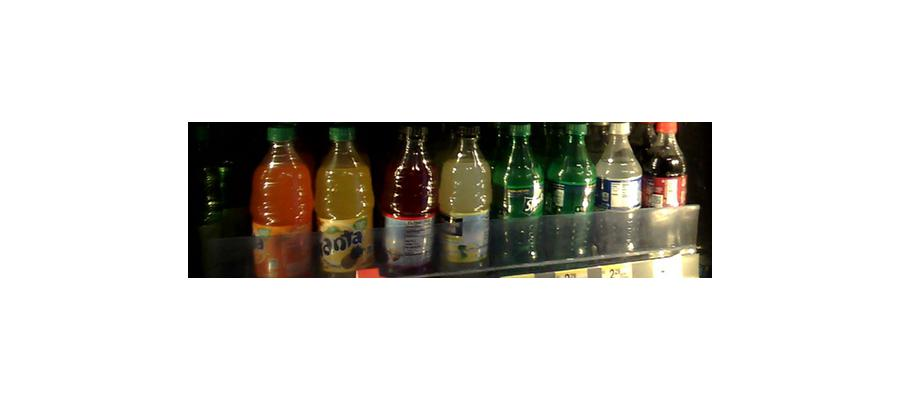bottle: (314, 124, 374, 275), (253, 124, 311, 279), (438, 122, 491, 270), (383, 123, 434, 272), (547, 120, 595, 261), (495, 122, 542, 265), (596, 115, 643, 257), (196, 142, 245, 269), (645, 118, 689, 252)
